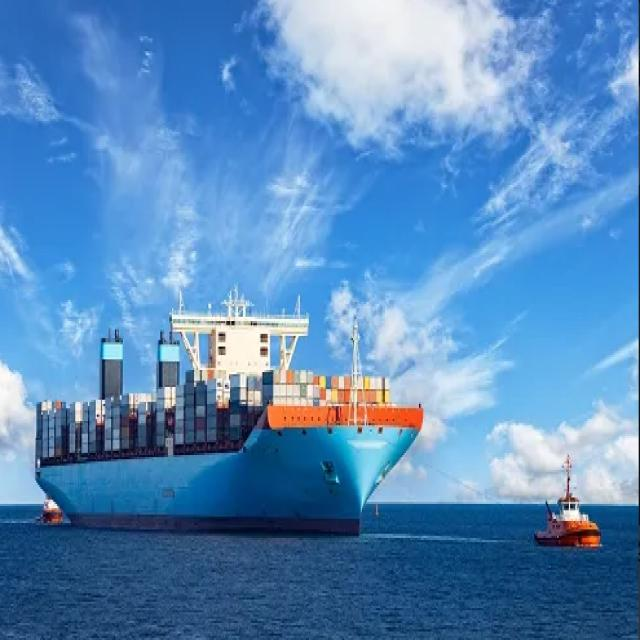cargoship: (36, 236, 421, 564), (532, 468, 611, 555)
